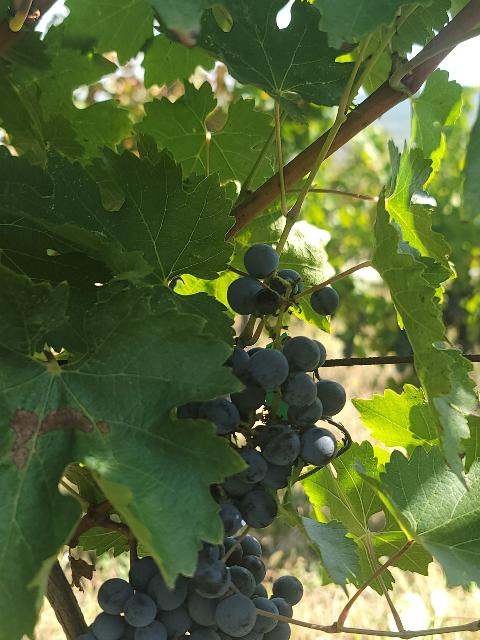grapes: (176, 335, 345, 526), (75, 535, 302, 640)
